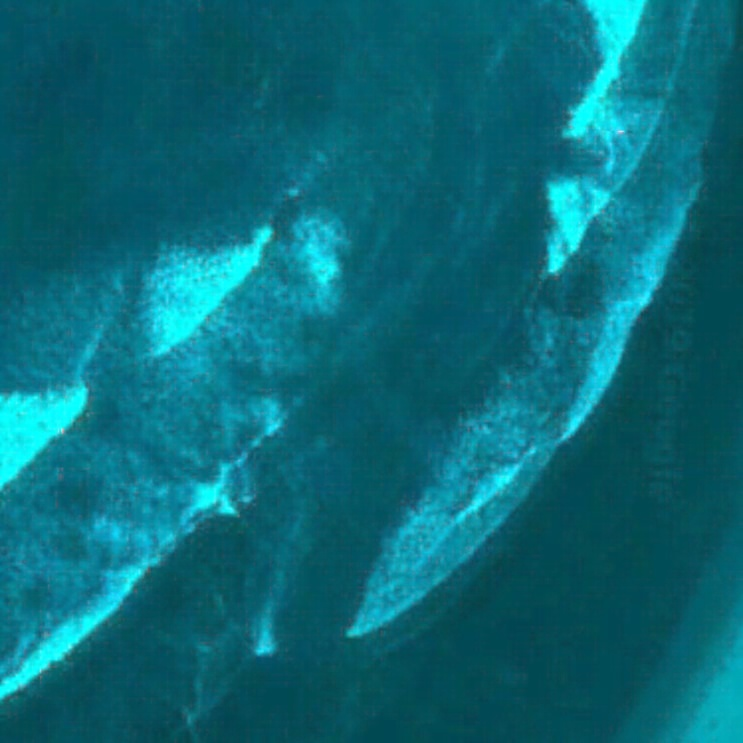rip_current: (227, 157, 479, 613)
